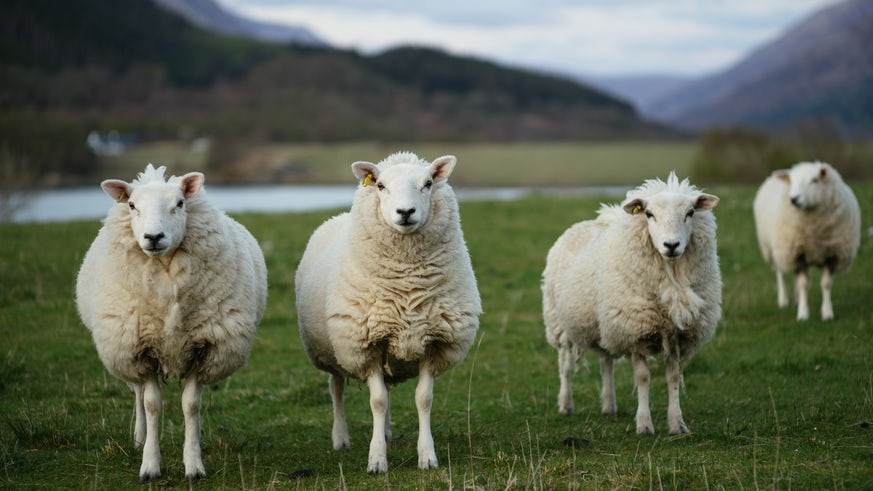koyun: (77, 170, 274, 480), (298, 149, 484, 476), (532, 171, 729, 438), (753, 154, 861, 324)
